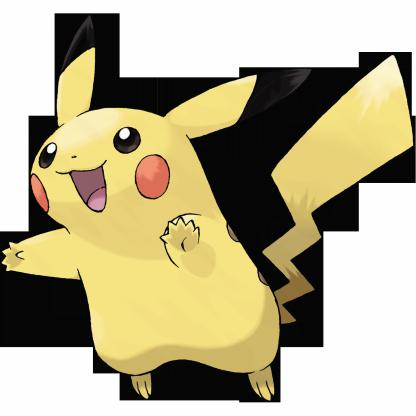Pikachu: (1, 9, 416, 410)
